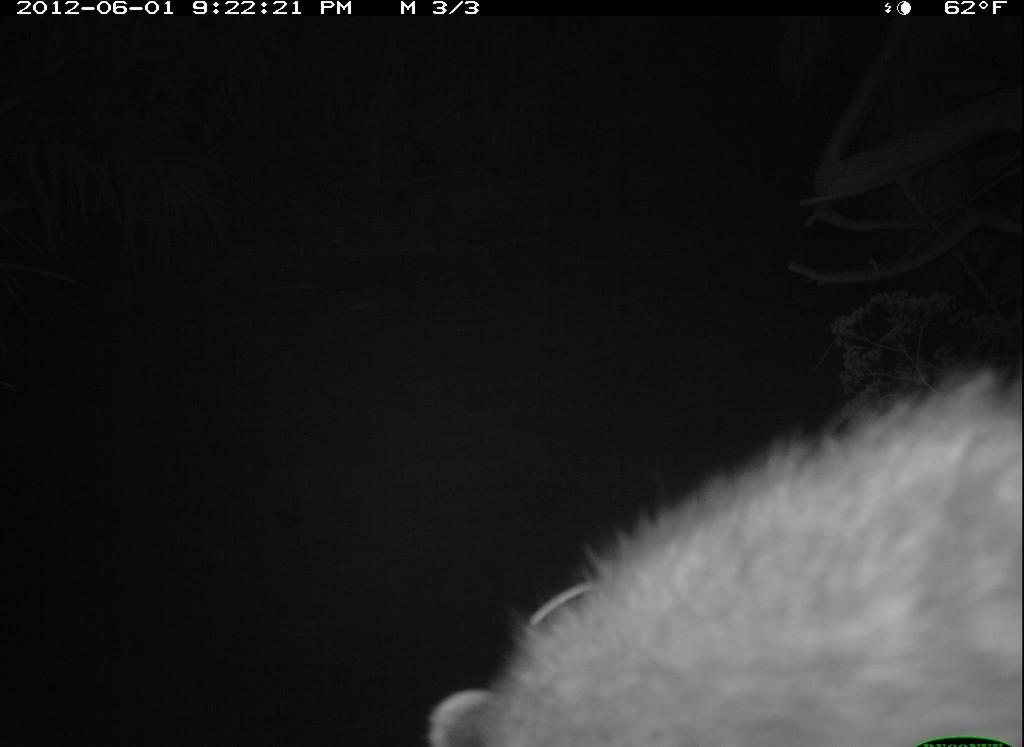raccoon: (408, 354, 1023, 747)
